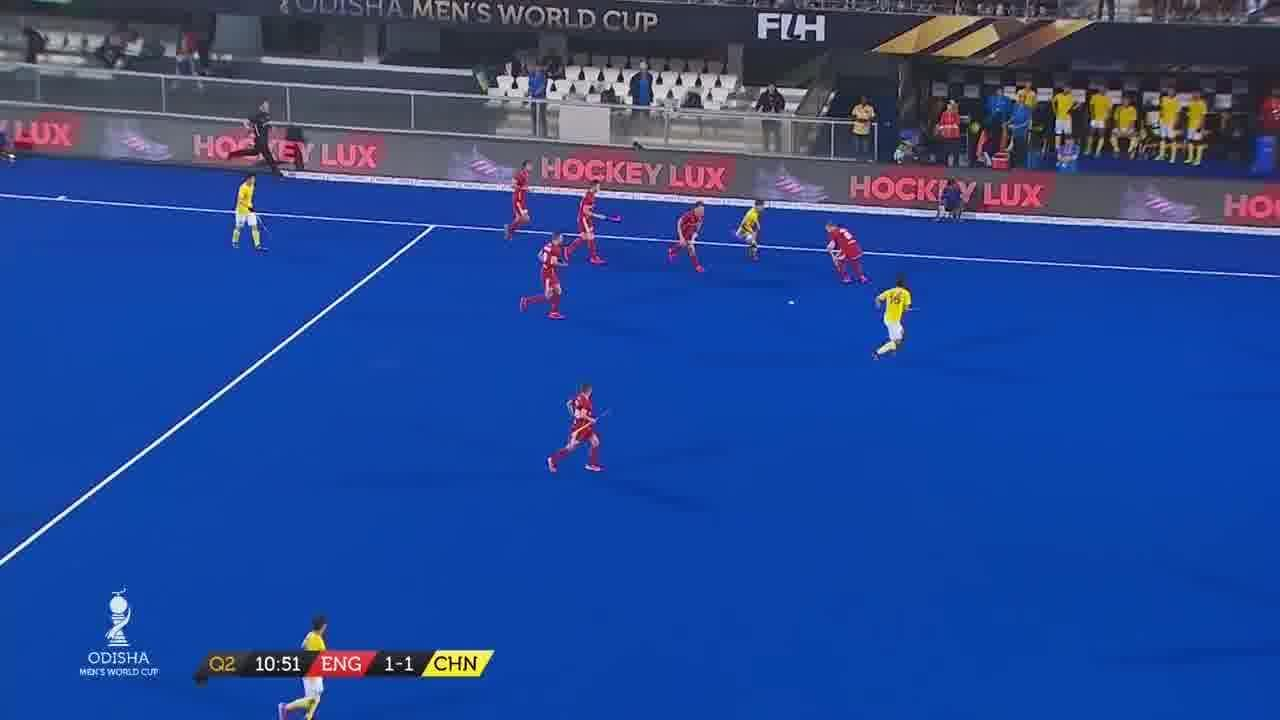ball: (785, 298, 797, 312)
